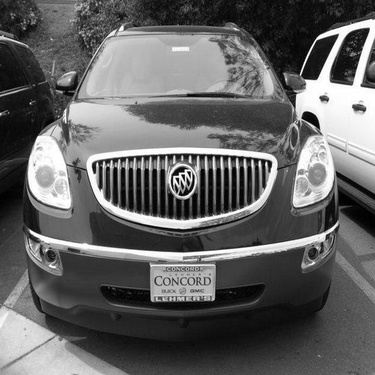car: (16, 13, 344, 354), (295, 17, 372, 226), (1, 28, 67, 208)
